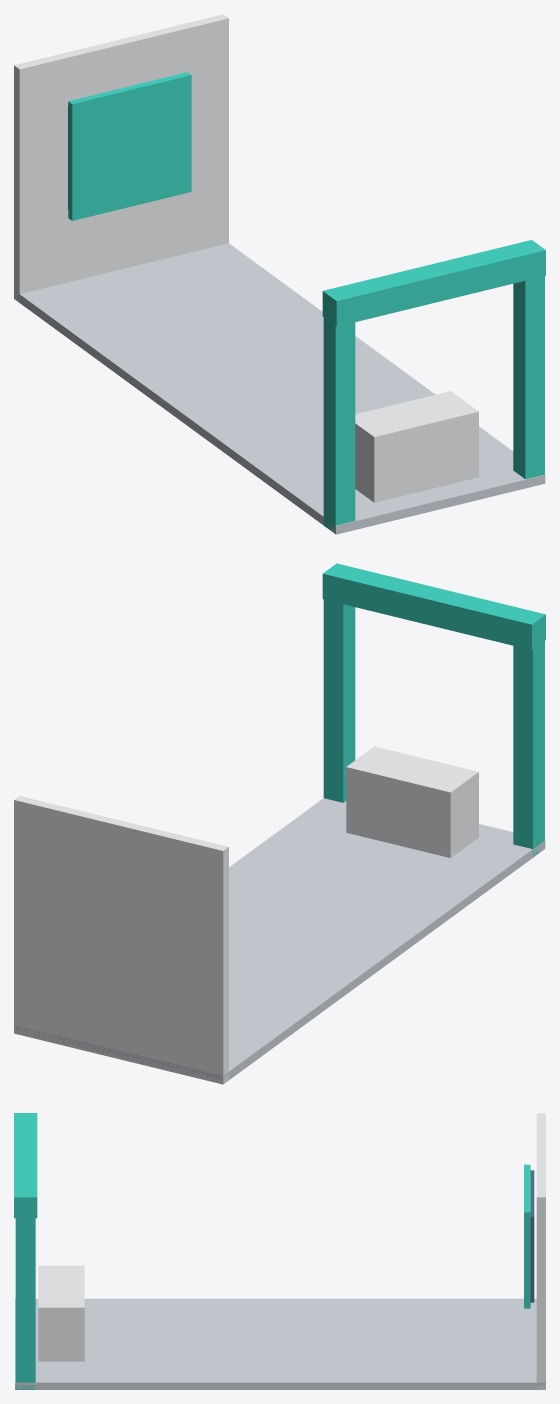
3 views of the same model, one above another, from view 1: azimuth 30°, elevation 25°; view 2: azimuth 150°, elevation 25°; view 3: azimuth 270°, elevation 25° (orthographic). The views are drawn at different scales.
Visible parts, largest first — view 1: Exhibition Booth Concept; view 2: Exhibition Booth Concept; view 3: Exhibition Booth Concept.
Part boxes in pixels (left/top/right/bottom): Exhibition Booth Concept: left=14, top=14, right=545, bottom=534; Exhibition Booth Concept: left=14, top=563, right=545, bottom=1084; Exhibition Booth Concept: left=14, top=1113, right=545, bottom=1389.
Bounding box in the file's own units: 3 × 3.2 × 8.01.
